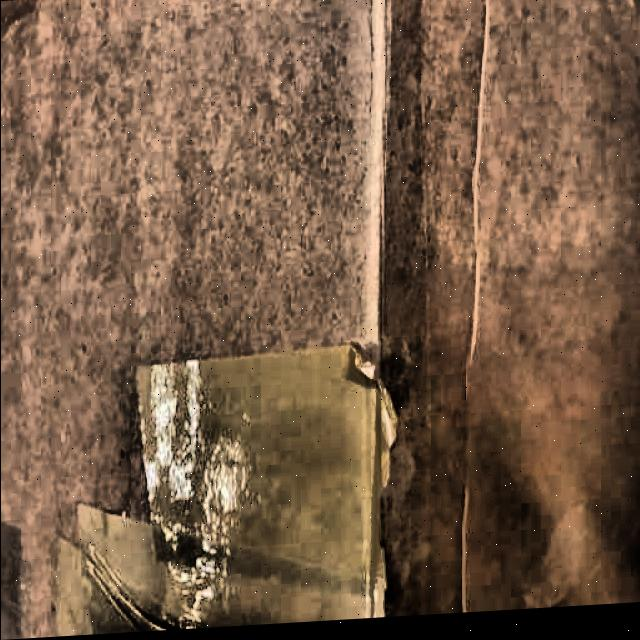cardboard: (131, 337, 395, 630)
